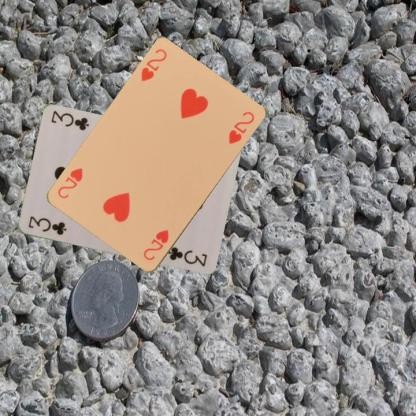2h: (138, 46, 168, 83), (140, 227, 170, 262)
3c: (26, 214, 68, 237)
